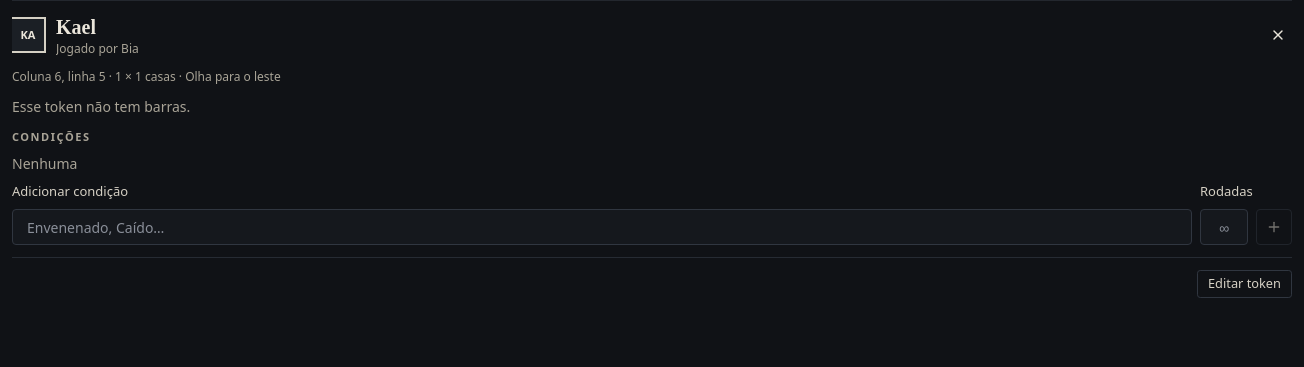
TokenDock › the viewer's character › selecting Kael shows Kael with "Fechar ficha", which brings Lyra back
Expected: the heading "Kael" is shown, x1=56 y1=16 x2=96 y2=38
Expected: the text "Principal" is not shown
Click the button named "Fechar ficha" at (1278, 35), box x1=1264 y1=21 x2=1292 y2=49
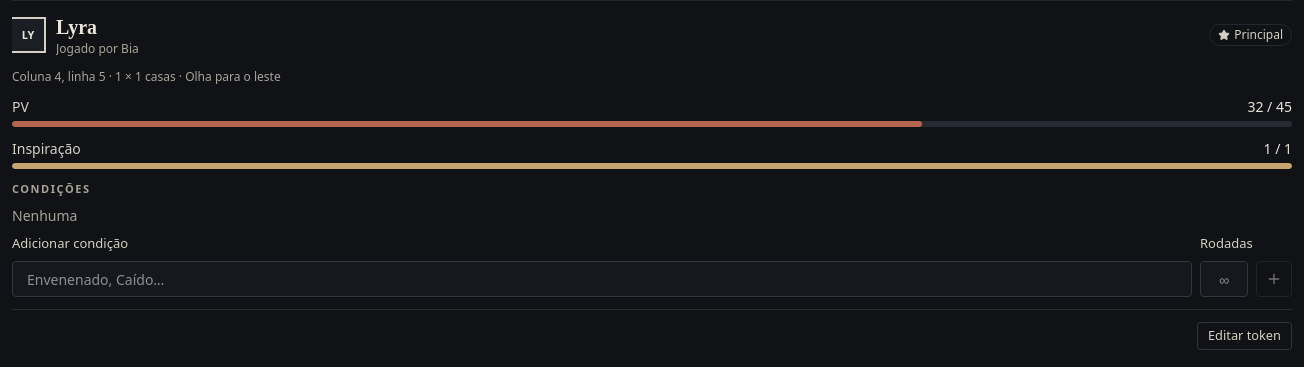
Result: the heading "Lyra" is shown at x1=56 y1=16 x2=97 y2=38
